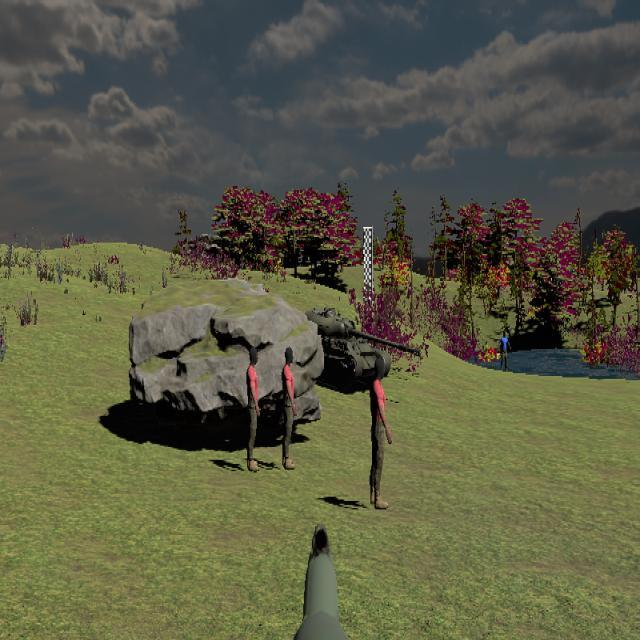Human: (369, 352, 392, 512), (280, 347, 299, 470), (245, 347, 262, 471), (498, 330, 512, 374)
Tank: (273, 308, 420, 391)
